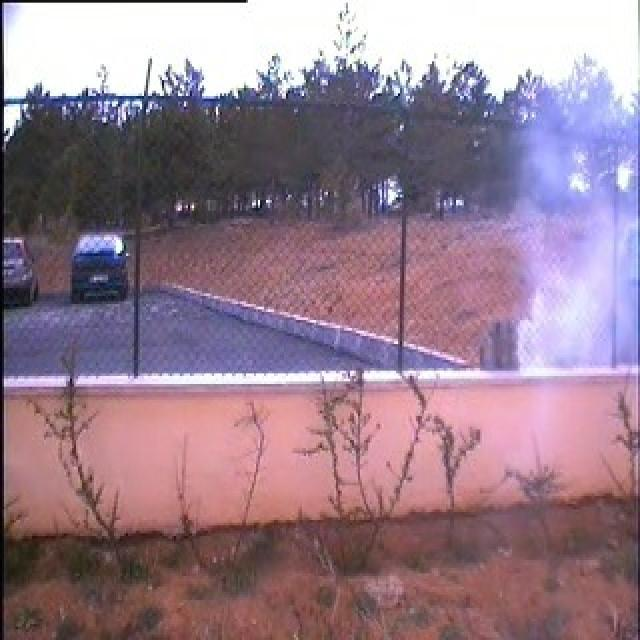Smoke: (519, 76, 640, 370)
